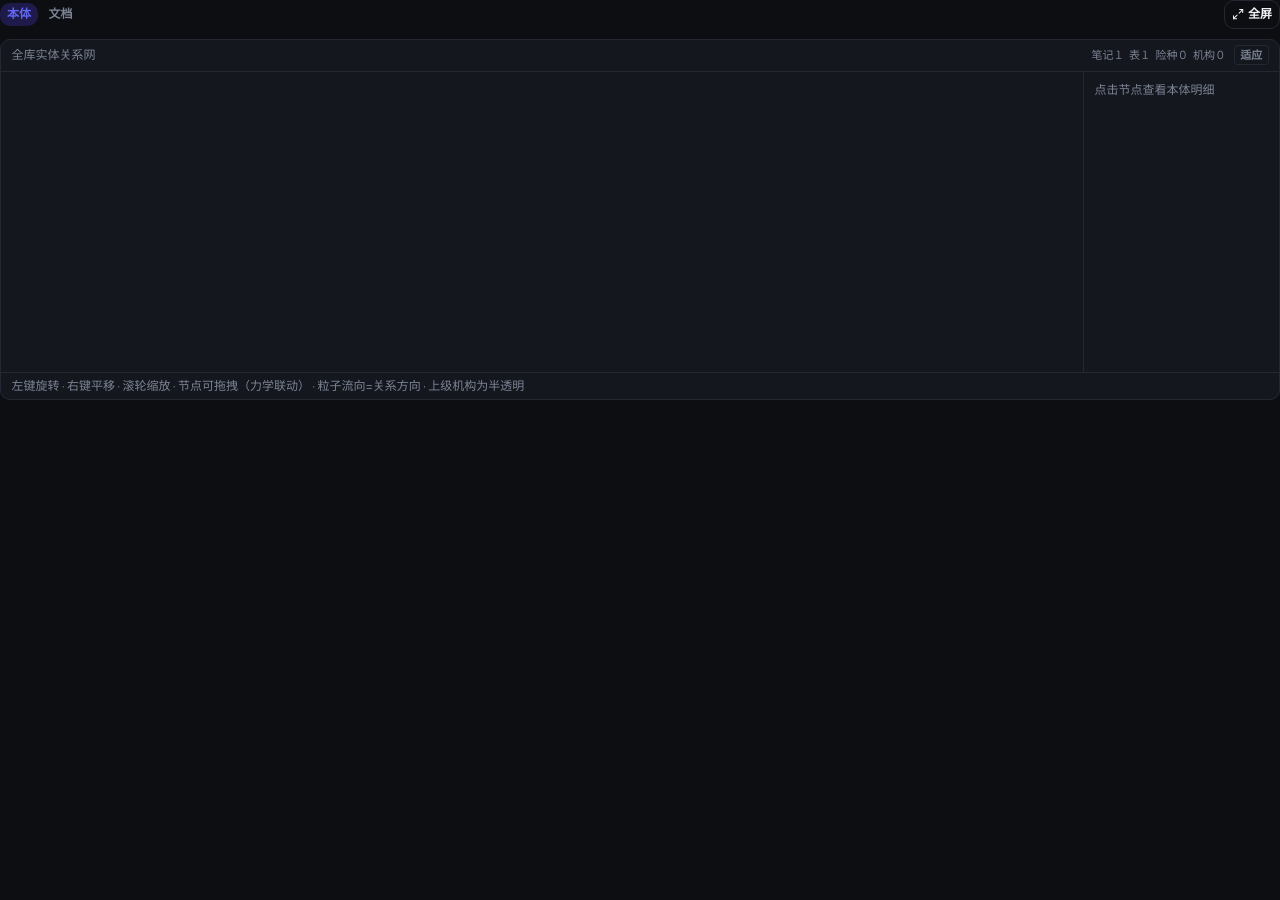
Test: KnowledgeGraphBrowser › mode chips switch between 本体 and 文档 both ways
Expected: the element with test id "ontology-graph-view" is shown, top-left (0, 39), bottom-right (1279, 400)
Click the button with test id "graph-mode-document" at (60, 14), box top-left (42, 3), bottom-right (80, 26)
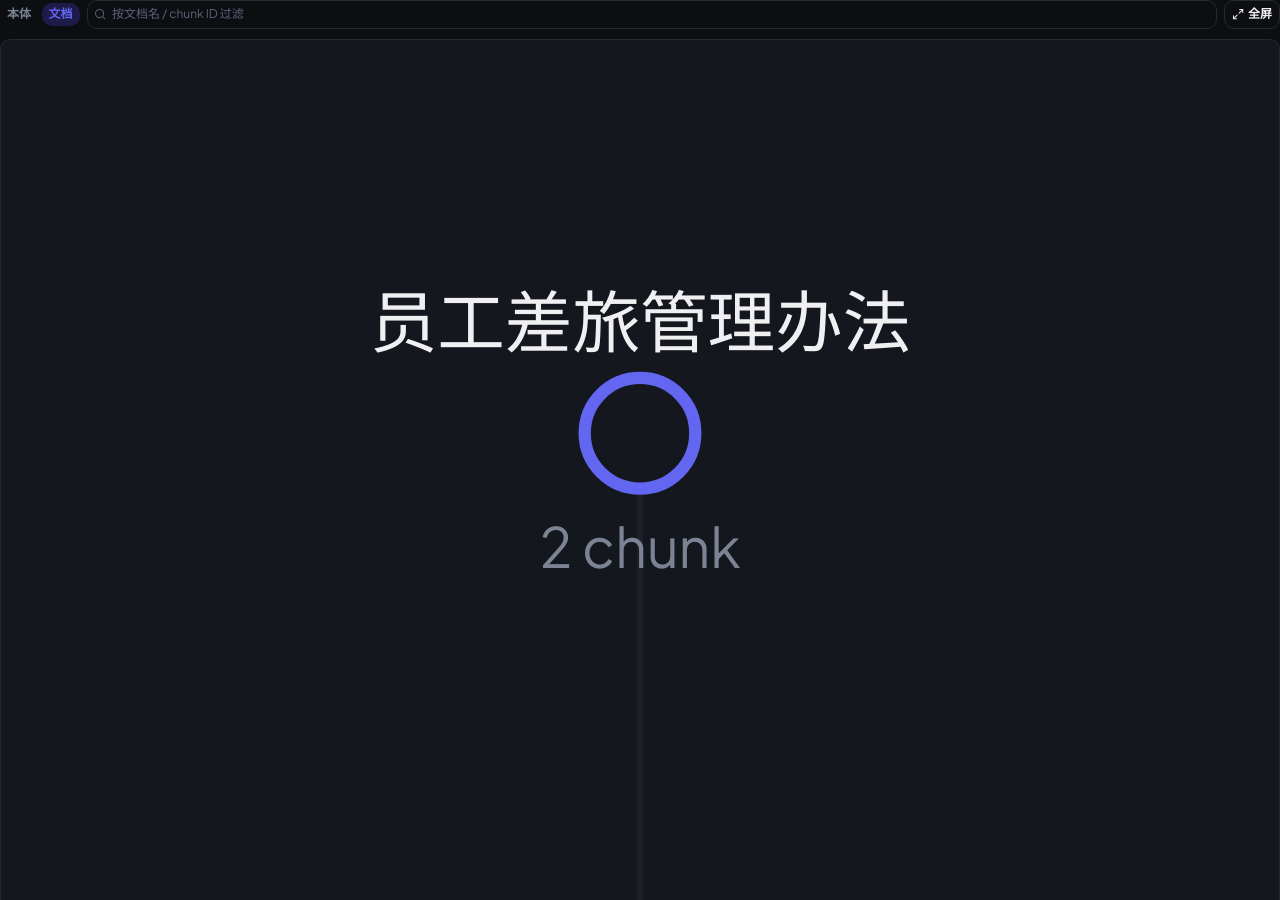
Result: the element with test id "ontology-graph-view" is gone
Click the button with test id "graph-mode-ontology" at (19, 14), box top-left (0, 3), bottom-right (38, 26)
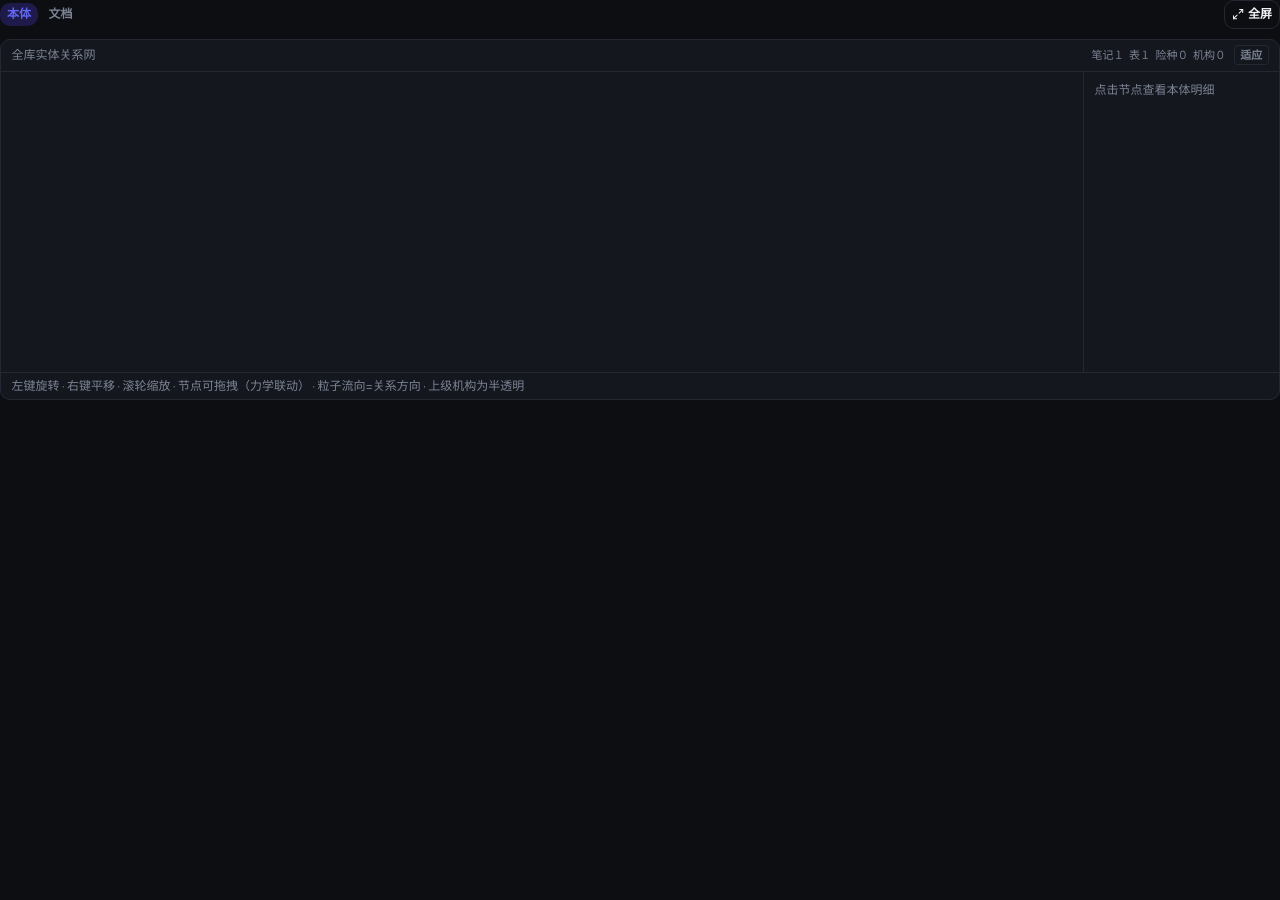
Result: the element with test id "ontology-graph-view" is shown at top-left (0, 39), bottom-right (1279, 400)
